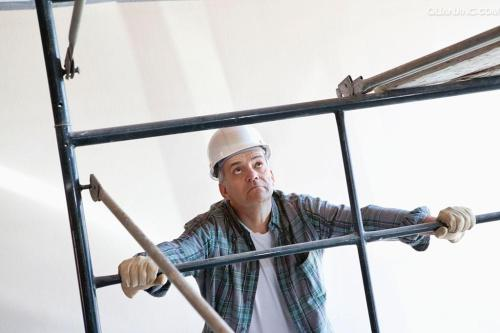boots: (397, 205, 431, 250)
gloves: (119, 251, 170, 303), (433, 205, 476, 242)
hard-hat: (207, 123, 271, 179)
person: (118, 123, 475, 333)
